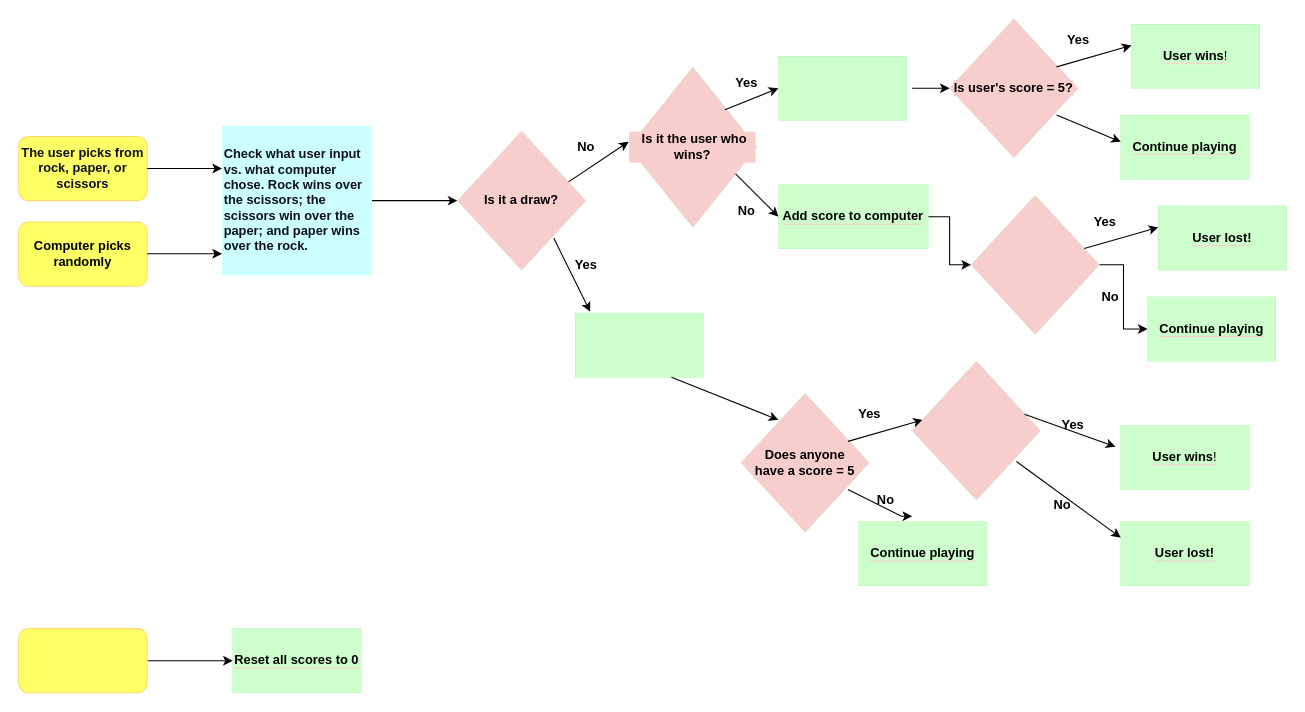
This 1305x712 diagram has some shape labels left out. The centre of each missing label's shape, as x and y in pixels:
"Add 1 point to both" belongs at pixel 639 344.
"Add score to user" belongs at pixel 842 88.
"Is computer 's score = 5?" belongs at pixel 1034 264.
"Is it the user?" belongs at pixel 976 430.
"Reset game" belongs at pixel 82 660.
